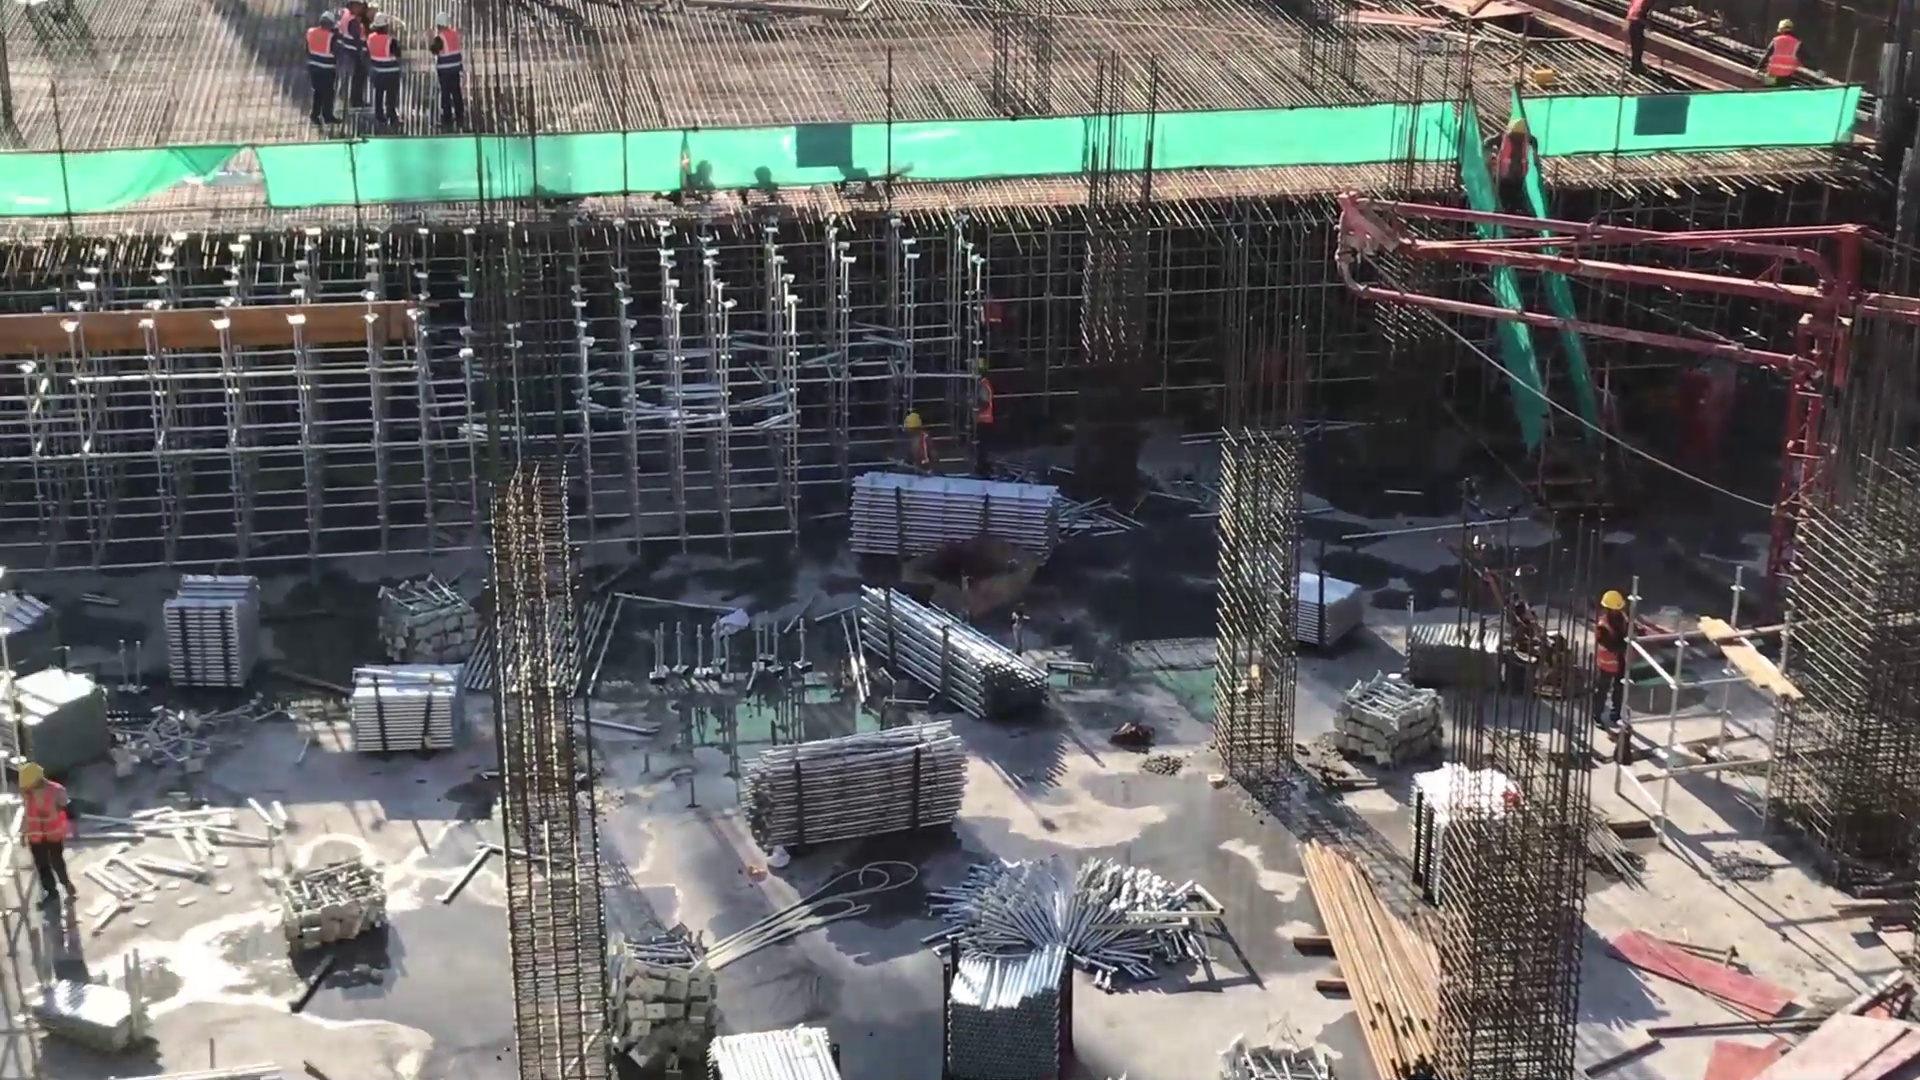helmet: (1599, 590, 1625, 608), (432, 12, 450, 26), (906, 413, 920, 425), (372, 13, 387, 24)
person: (14, 759, 81, 914), (1586, 579, 1642, 713), (1475, 114, 1538, 207), (427, 14, 473, 129), (363, 10, 404, 119), (1612, 1, 1660, 81), (962, 346, 997, 453), (301, 8, 333, 107), (1762, 14, 1807, 87), (332, 2, 361, 96), (901, 409, 929, 476)
scaffold: (748, 712, 979, 841), (855, 591, 1043, 712), (855, 470, 1065, 574), (944, 935, 1069, 1079), (343, 657, 465, 757), (166, 569, 262, 693), (709, 1014, 839, 1080), (1296, 568, 1362, 651), (1408, 773, 1451, 900), (1405, 615, 1467, 677)
vest: (1595, 616, 1633, 676), (367, 34, 401, 85), (1765, 35, 1801, 76), (1497, 134, 1530, 177), (308, 28, 332, 86), (432, 32, 465, 72)
wood: (1306, 838, 1435, 1080)
